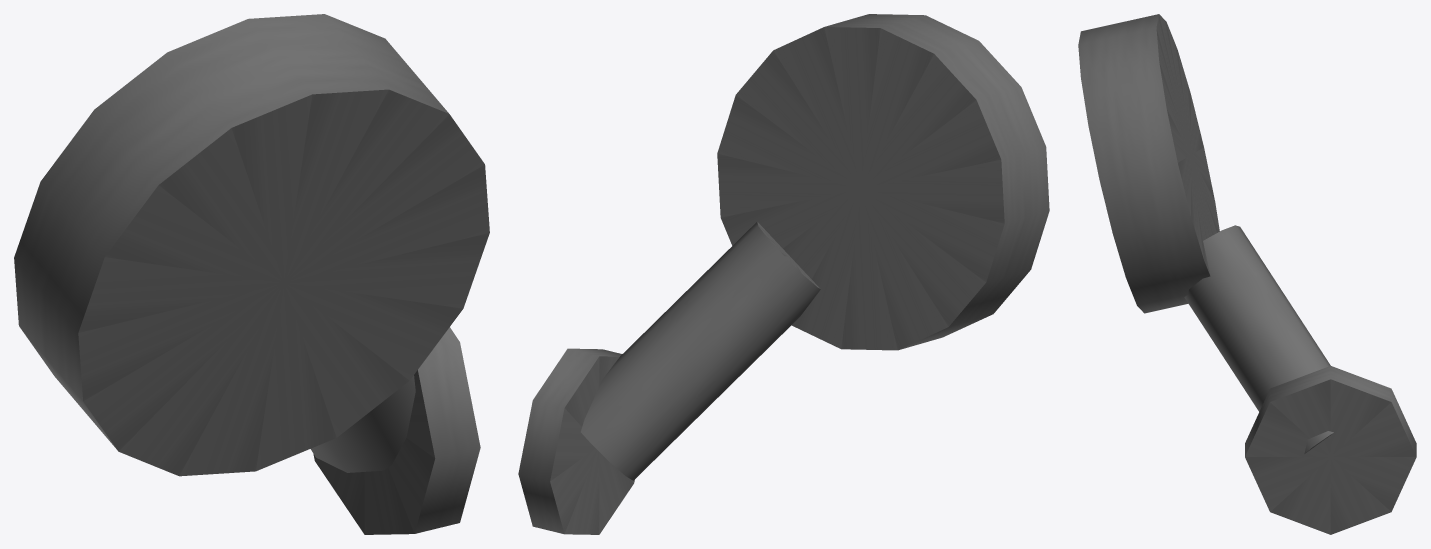
The model's file is mastarmcurve_8x2_c5_east.obj.
The picture shows the model from 3 angles, left to right: view 1: azimuth 30°, elevation 25°; view 2: azimuth 150°, elevation 25°; view 3: azimuth 270°, elevation 25°; orthographic projection. The views are drawn at different scales.
Parts seen in each view (by area): view 1: mastarm_8x2_c5_east; view 2: mastarm_8x2_c5_east; view 3: mastarm_8x2_c5_east.
Part boxes in pixels (x1,y1,x2,y2): mastarm_8x2_c5_east: [14, 14, 489, 534]; mastarm_8x2_c5_east: [518, 14, 1049, 534]; mastarm_8x2_c5_east: [1078, 14, 1416, 534].
Bounding box in the file's own units: 0.8471 × 1.07 × 0.7878.
